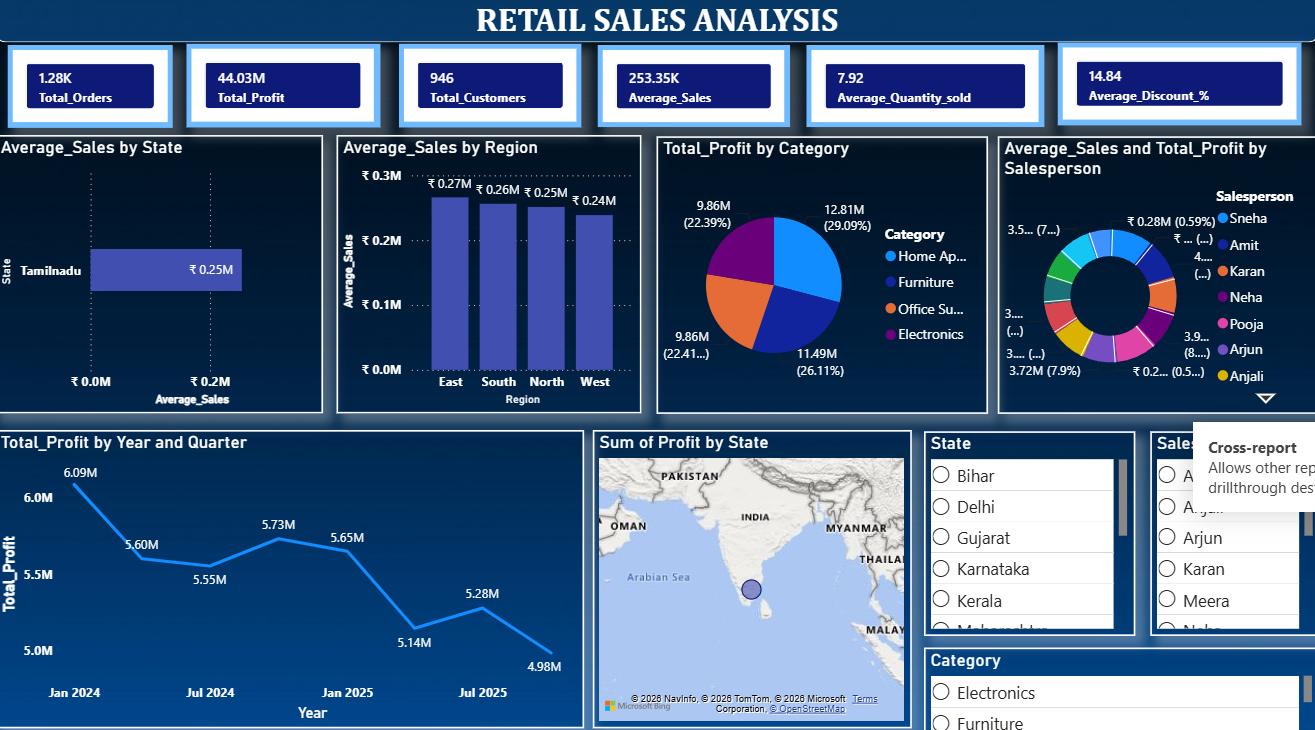

Layout of this report page (visuals, bound fields, positions):
{"tool":"powerbi","page":{"name":"Page 1","canvas":[1280,720],"ordinal":0},"visuals":[{"type":"shape","box":[0,0,1280,45.8],"z":0},{"type":"cardVisual","fields":{"Data":["Retail_Sales_Dataset_Realistic_10100_Rows.Average_Discount_%"]},"box":[1026.7,45.8,235.3,79.6],"z":1000},{"type":"cardVisual","fields":{"Data":["Retail_Sales_Dataset_Realistic_10100_Rows.Total_Orders"]},"box":[13.3,48.2,159.3,79.6],"z":1000,"group":"g2"},{"type":"cardVisual","fields":{"Data":["Retail_Sales_Dataset_Realistic_10100_Rows.Total_Profit"]},"box":[185.8,47.1,187,80.5],"z":2000,"group":"g1"},{"type":"barChart","fields":{"Y":["Retail_Sales_Dataset_Realistic_10100_Rows.Average_Sales"],"Category":["Retail_Sales_Dataset_Realistic_10100_Rows.State"]},"box":[0,135.1,317.3,269],"z":2000},{"type":"cardVisual","fields":{"Data":["Retail_Sales_Dataset_Realistic_10100_Rows.Total_Customers"]},"box":[390.9,47.1,176.1,80.5],"z":3000,"group":"g1"},{"type":"columnChart","fields":{"Category":["Retail_Sales_Dataset_Realistic_10100_Rows.Region"],"Y":["Retail_Sales_Dataset_Realistic_10100_Rows.Average_Sales"]},"box":[330.6,135.1,294.4,269],"z":3000},{"type":"cardVisual","fields":{"Data":["Retail_Sales_Dataset_Realistic_10100_Rows.Average_Sales"]},"box":[582.7,48.1,185.8,79.5],"z":4000,"group":"g1"},{"type":"pieChart","fields":{"Category":["Retail_Sales_Dataset_Realistic_10100_Rows.Category"],"Y":["Retail_Sales_Dataset_Realistic_10100_Rows.Total_Profit"]},"box":[639.4,136.3,319.7,267.8],"z":4000},{"type":"cardVisual","fields":{"Data":["Retail_Sales_Dataset_Realistic_10100_Rows.Average_Quantity_sold"]},"box":[784.2,48.1,229.2,79.5],"z":5000,"group":"g1"},{"type":"donutChart","fields":{"Y":["Retail_Sales_Dataset_Realistic_10100_Rows.Average_Sales","Retail_Sales_Dataset_Realistic_10100_Rows.Total_Profit"],"Category":["Retail_Sales_Dataset_Realistic_10100_Rows.Salesperson"]},"box":[968.8,136.3,311.3,267.8],"z":5000},{"type":"lineChart","fields":{"Category":["Retail_Sales_Dataset_Realistic_10100_Rows.Order Date.Variation.Date Hierarchy.Year","Retail_Sales_Dataset_Realistic_10100_Rows.Order Date.Variation.Date Hierarchy.Quarter"],"Y":["Retail_Sales_Dataset_Realistic_10100_Rows.Total_Profit"]},"box":[0,419.8,569.4,288.3],"z":6000},{"type":"group","id":"g1","title":"Group 2","box":[185.8,47.1,827.6,80.5],"z":6008,"group":"g2"},{"type":"map","fields":{"Category":["Retail_Sales_Dataset_Realistic_10100_Rows.State"],"Size":["Sum(Retail_Sales_Dataset_Realistic_10100_Rows.Profit)"]},"box":[577.9,419.8,307.6,288.3],"z":7000},{"type":"group","id":"g2","title":"Group 1","box":[13.3,47.1,1000.1,80.8],"z":8000},{"type":"listSlicer","fields":{"Values":["Retail_Sales_Dataset_Realistic_10100_Rows.State"]},"box":[897.6,421,203.9,197.9],"z":9000},{"type":"listSlicer","fields":{"Values":["Retail_Sales_Dataset_Realistic_10100_Rows.Salesperson"]},"box":[1116,421,164.1,197.9],"z":10000},{"type":"listSlicer","fields":{"Values":["Retail_Sales_Dataset_Realistic_10100_Rows.Category"]},"box":[897.6,629.8,382.4,90.5],"z":10001}]}

Visuals, with their boxes in screenshot pixels (x1, y1, x2, y2), scaled from the page's 1280x720 canvas onto the 1315x730 screenshot:
shape: l=0, t=0, r=1314, b=46
cardVisual - Retail_Sales_Dataset_Realistic_10100_Rows.Average_Discount_%: l=1055, t=46, r=1297, b=127
cardVisual - Retail_Sales_Dataset_Realistic_10100_Rows.Total_Orders: l=14, t=49, r=177, b=130
cardVisual - Retail_Sales_Dataset_Realistic_10100_Rows.Total_Profit: l=191, t=48, r=383, b=129
barChart - Retail_Sales_Dataset_Realistic_10100_Rows.Average_Sales x Retail_Sales_Dataset_Realistic_10100_Rows.State: l=0, t=137, r=326, b=410
cardVisual - Retail_Sales_Dataset_Realistic_10100_Rows.Total_Customers: l=402, t=48, r=583, b=129
columnChart - Retail_Sales_Dataset_Realistic_10100_Rows.Region x Retail_Sales_Dataset_Realistic_10100_Rows.Average_Sales: l=340, t=137, r=642, b=410
cardVisual - Retail_Sales_Dataset_Realistic_10100_Rows.Average_Sales: l=599, t=49, r=790, b=129
pieChart - Retail_Sales_Dataset_Realistic_10100_Rows.Category x Retail_Sales_Dataset_Realistic_10100_Rows.Total_Profit: l=657, t=138, r=985, b=410
cardVisual - Retail_Sales_Dataset_Realistic_10100_Rows.Average_Quantity_sold: l=806, t=49, r=1041, b=129
donutChart - Retail_Sales_Dataset_Realistic_10100_Rows.Average_Sales x Retail_Sales_Dataset_Realistic_10100_Rows.Total_Profit: l=995, t=138, r=1314, b=410
lineChart - Retail_Sales_Dataset_Realistic_10100_Rows.Order Date.Variation.Date Hierarchy.Year x Retail_Sales_Dataset_Realistic_10100_Rows.Order Date.Variation.Date Hierarchy.Quarter: l=0, t=426, r=585, b=718
"Group 2" group: l=191, t=48, r=1041, b=129
map - Retail_Sales_Dataset_Realistic_10100_Rows.State x Sum(Retail_Sales_Dataset_Realistic_10100_Rows.Profit): l=594, t=426, r=910, b=718
"Group 1" group: l=14, t=48, r=1041, b=130
listSlicer - Retail_Sales_Dataset_Realistic_10100_Rows.State: l=922, t=427, r=1132, b=627
listSlicer - Retail_Sales_Dataset_Realistic_10100_Rows.Salesperson: l=1147, t=427, r=1314, b=627
listSlicer - Retail_Sales_Dataset_Realistic_10100_Rows.Category: l=922, t=639, r=1314, b=729
